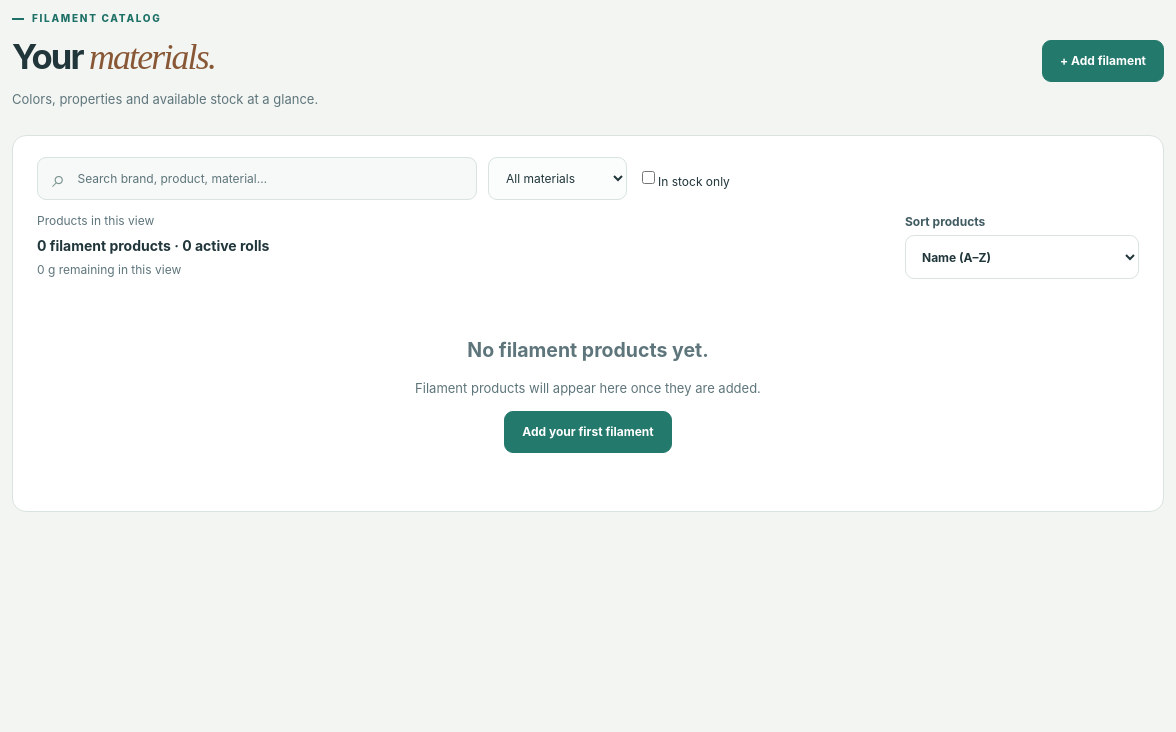
Test: filament gallery controls and state › offers the first-product action to editors but not viewers
What coordinates should you click on to do the following:
click the button "Add your first filament"
I would click on:
 (588, 432)
Its box is x1=504 y1=411 x2=672 y2=453.
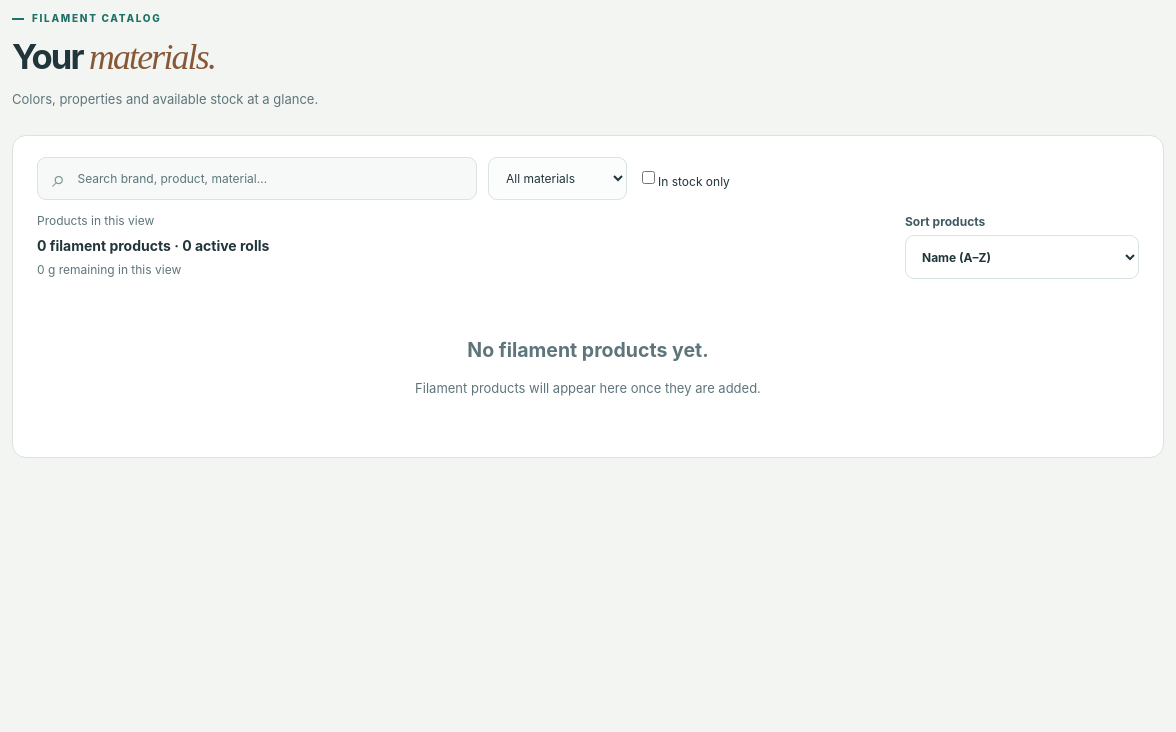
Result: the button "+ Add filament" is gone
